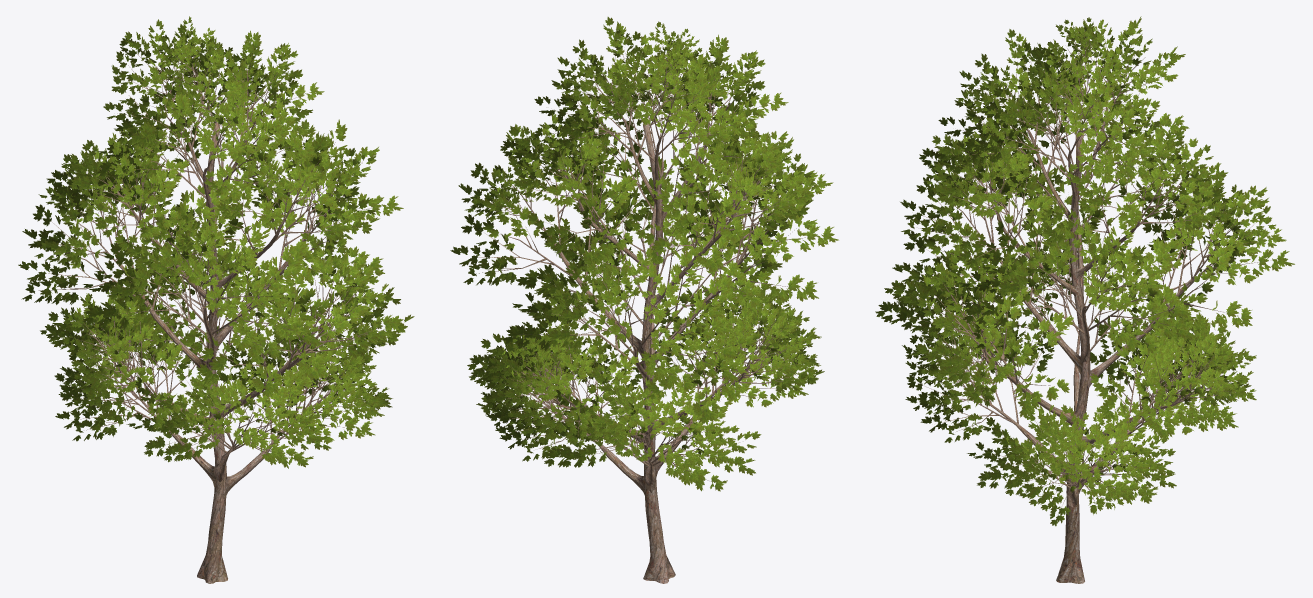
File: maple6.obj
The picture shows the model from 3 angles, left to right: view 1: azimuth 30°, elevation 25°; view 2: azimuth 150°, elevation 25°; view 3: azimuth 270°, elevation 25°; orthographic projection.
Parts seen in each view (by area): view 1: leaf maple, bark02; view 2: leaf maple, bark02; view 3: leaf maple, bark02.
Part boxes in pixels (x1,y1,x2,y2): leaf maple: [18, 16, 414, 468]; bark02: [38, 36, 384, 583]; leaf maple: [450, 17, 838, 491]; bark02: [476, 40, 816, 583]; leaf maple: [875, 16, 1294, 526]; bark02: [909, 27, 1268, 583].
Size of the model in its own units: 582 by 949 by 662.
Materials: 2 (2 with a texture image).
